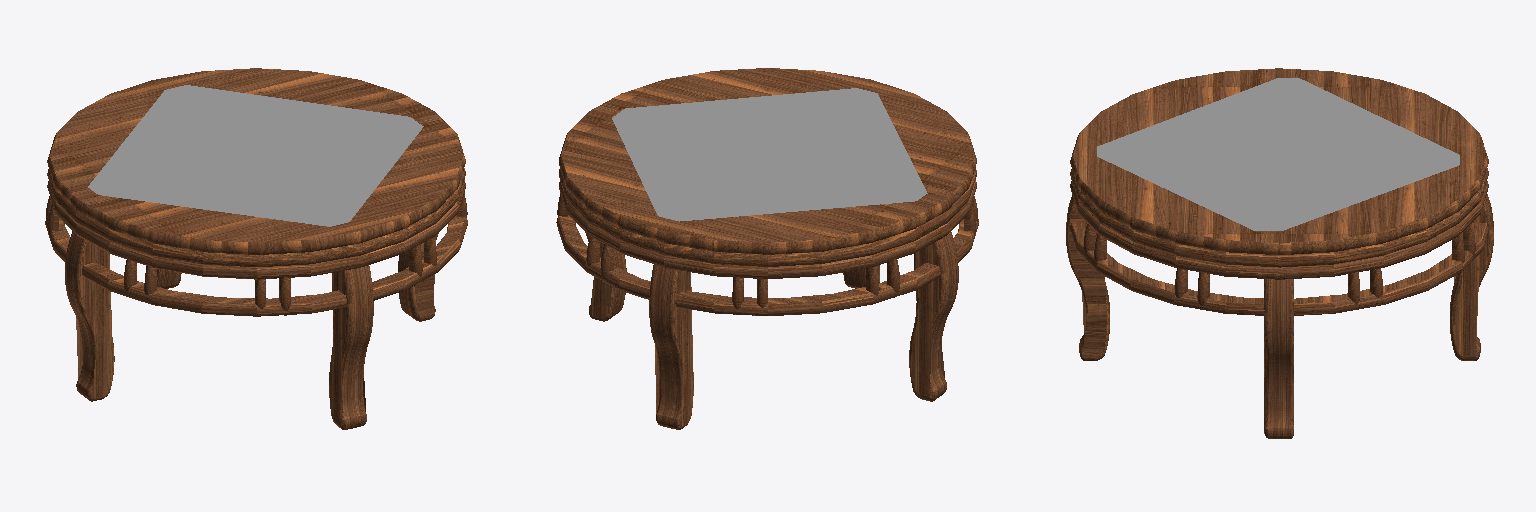
The picture shows the model from 3 angles: view 1: azimuth 30°, elevation 25°; view 2: azimuth 150°, elevation 25°; view 3: azimuth 270°, elevation 25°; orthographic projection.
Visible parts, largest first — view 1: Mesh24 Group25 Group24 Chinese_table1 Model, Mesh25 Group24 Chinese_table1 Model, Mesh6 Group6 Chinese_table1 Model, Mesh3 Group3 Chinese_table1 Model, Mesh1 Group1 Chinese_table1 Model, Mesh22 Group22 Chinese_table1 Model, Mesh23 Group23 Chinese_table1 Model, Mesh2 Group2 Chinese_table1 Model; view 2: Mesh24 Group25 Group24 Chinese_table1 Model, Mesh25 Group24 Chinese_table1 Model, Mesh6 Group6 Chinese_table1 Model, Mesh4 Group4 Chinese_table1 Model, Mesh1 Group1 Chinese_table1 Model, Mesh22 Group22 Chinese_table1 Model, Mesh23 Group23 Chinese_table1 Model, Mesh2 Group2 Chinese_table1 Model; view 3: Mesh24 Group25 Group24 Chinese_table1 Model, Mesh25 Group24 Chinese_table1 Model, Mesh6 Group6 Chinese_table1 Model, Mesh22 Group22 Chinese_table1 Model, Mesh23 Group23 Chinese_table1 Model, Mesh2 Group2 Chinese_table1 Model, Mesh4 Group4 Chinese_table1 Model, Mesh3 Group3 Chinese_table1 Model.
Boxes of the visible parts, x1=… form: Mesh24 Group25 Group24 Chinese_table1 Model: x1=88, y1=85, x2=423, y2=226; Mesh25 Group24 Chinese_table1 Model: x1=47, y1=68, x2=465, y2=254; Mesh6 Group6 Chinese_table1 Model: x1=45, y1=215, x2=467, y2=316; Mesh3 Group3 Chinese_table1 Model: x1=329, y1=265, x2=373, y2=429; Mesh1 Group1 Chinese_table1 Model: x1=65, y1=231, x2=114, y2=401; Mesh22 Group22 Chinese_table1 Model: x1=47, y1=168, x2=465, y2=266; Mesh23 Group23 Chinese_table1 Model: x1=47, y1=180, x2=465, y2=279; Mesh2 Group2 Chinese_table1 Model: x1=398, y1=233, x2=438, y2=321; Mesh24 Group25 Group24 Chinese_table1 Model: x1=612, y1=88, x2=927, y2=221; Mesh25 Group24 Chinese_table1 Model: x1=559, y1=68, x2=976, y2=254; Mesh6 Group6 Chinese_table1 Model: x1=556, y1=215, x2=978, y2=315; Mesh4 Group4 Chinese_table1 Model: x1=649, y1=264, x2=693, y2=429; Mesh1 Group1 Chinese_table1 Model: x1=909, y1=232, x2=958, y2=401; Mesh22 Group22 Chinese_table1 Model: x1=559, y1=168, x2=976, y2=266; Mesh23 Group23 Chinese_table1 Model: x1=559, y1=180, x2=976, y2=278; Mesh2 Group2 Chinese_table1 Model: x1=585, y1=232, x2=626, y2=321; Mesh24 Group25 Group24 Chinese_table1 Model: x1=1097, y1=78, x2=1459, y2=230; Mesh25 Group24 Chinese_table1 Model: x1=1070, y1=68, x2=1488, y2=254; Mesh6 Group6 Chinese_table1 Model: x1=1070, y1=222, x2=1488, y2=315; Mesh22 Group22 Chinese_table1 Model: x1=1070, y1=168, x2=1488, y2=267; Mesh23 Group23 Chinese_table1 Model: x1=1070, y1=181, x2=1488, y2=279; Mesh2 Group2 Chinese_table1 Model: x1=1264, y1=279, x2=1293, y2=438; Mesh4 Group4 Chinese_table1 Model: x1=1450, y1=194, x2=1493, y2=360; Mesh3 Group3 Chinese_table1 Model: x1=1066, y1=195, x2=1109, y2=360.
Size of the model in its own units: 0.9828 by 0.5097 by 0.9829.
Materials: 3 (2 with a texture image).